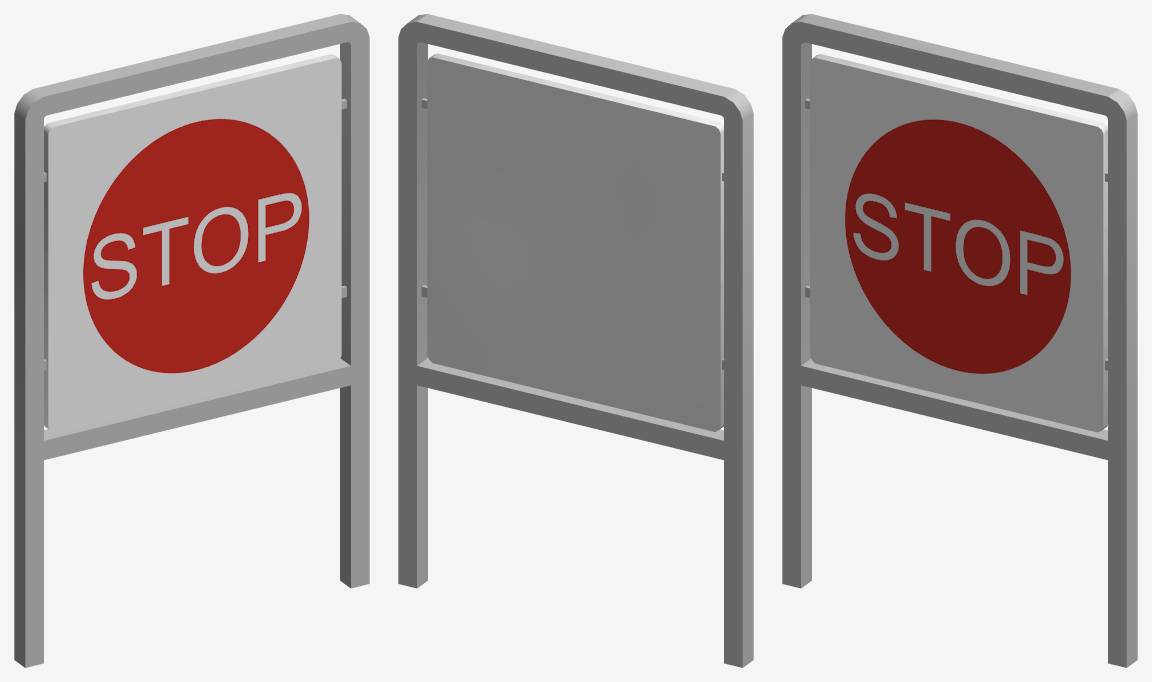
Rendered from Track_Sign_Stop.fbx.
3 views of the same model, side by side, from view 1: azimuth 30°, elevation 25°; view 2: azimuth 150°, elevation 25°; view 3: azimuth 330°, elevation 25° (orthographic).
Parts seen in each view (by area): view 1: Stop, Frame; view 2: Stop, Frame; view 3: Stop, Frame.
Boxes of the visible parts, x1,y1,x2,y2 form: Stop: [44, 54, 341, 432]; Frame: [14, 14, 369, 667]; Stop: [427, 53, 723, 431]; Frame: [398, 14, 753, 667]; Stop: [810, 54, 1107, 432]; Frame: [782, 14, 1137, 667].
Size of the model in its own units: 130 by 204 by 7.
